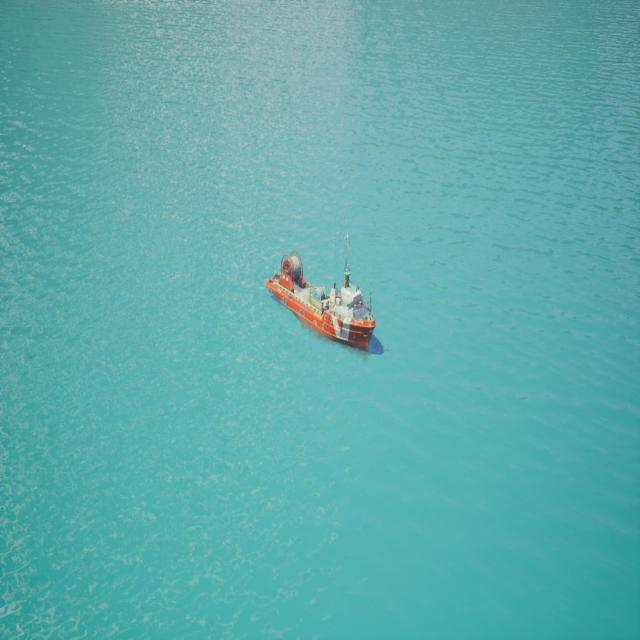tug boat: (266, 253, 383, 361)
